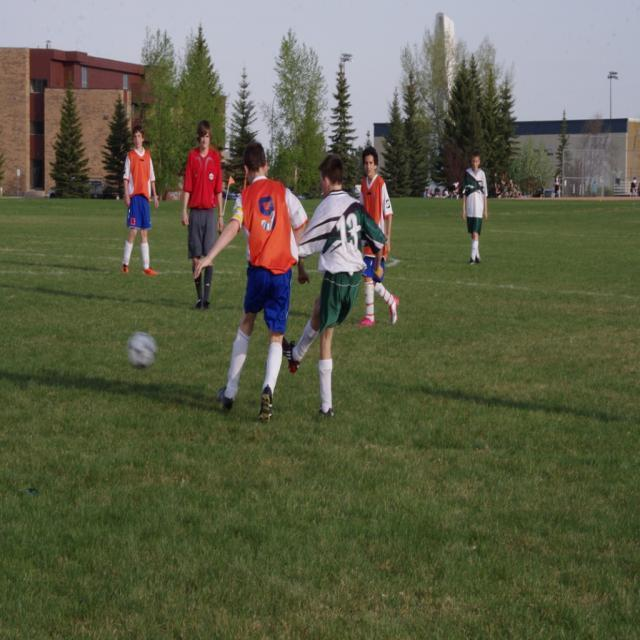ball: (127, 332, 160, 370)
